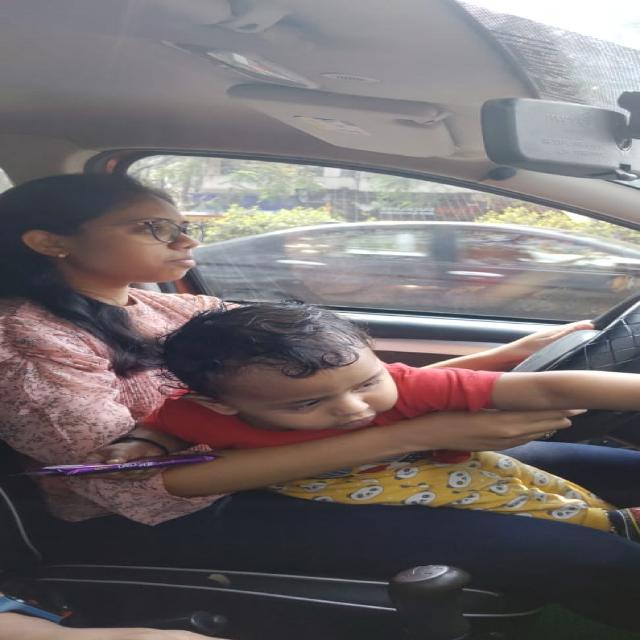child: (154, 297, 426, 434)
person: (1, 160, 243, 298)
